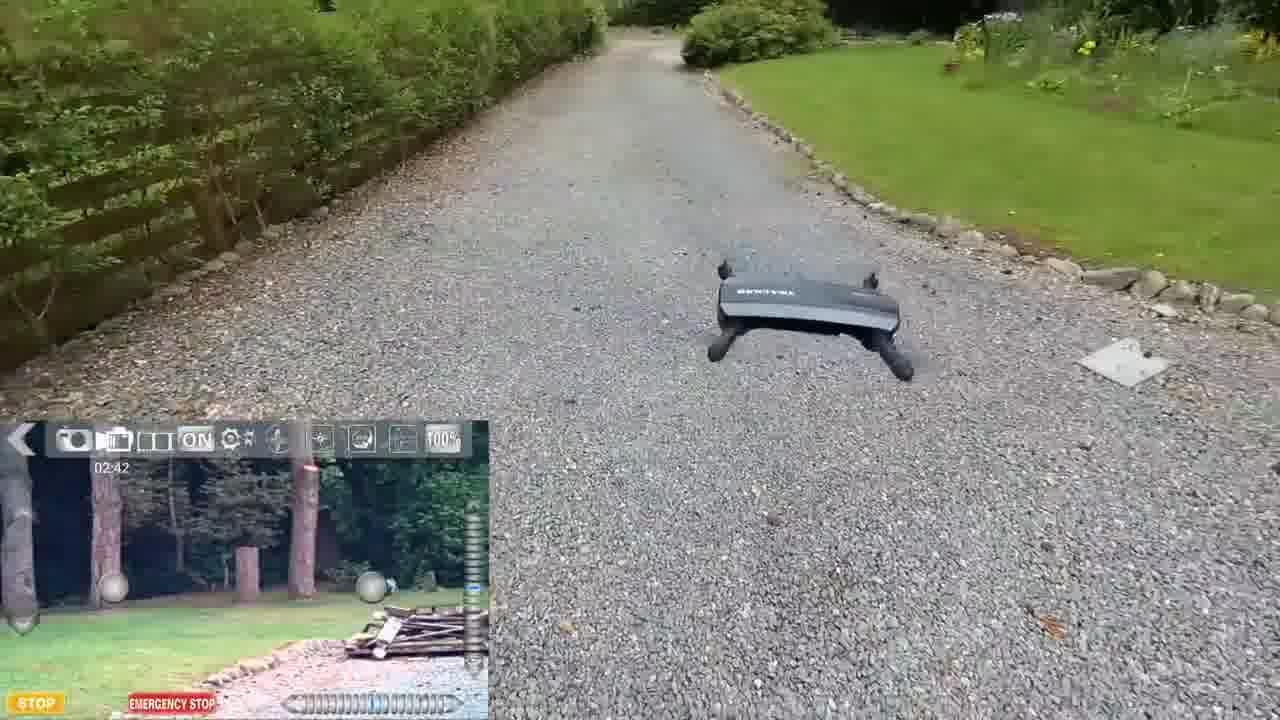drone: (664, 246, 979, 383)
